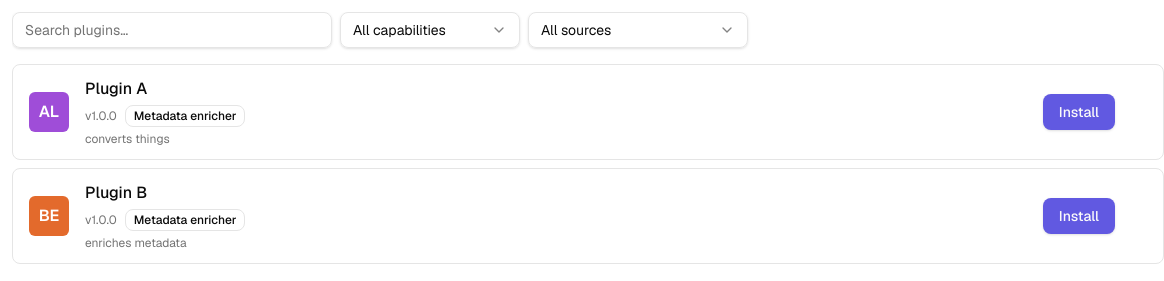
Scenario: DiscoverTab › filters plugins by search query (description match)
Type "converts" into the field with placeholder "Search plugins…".
click(172, 30); type("converts")  # box x1=12 y1=12 x2=332 y2=48
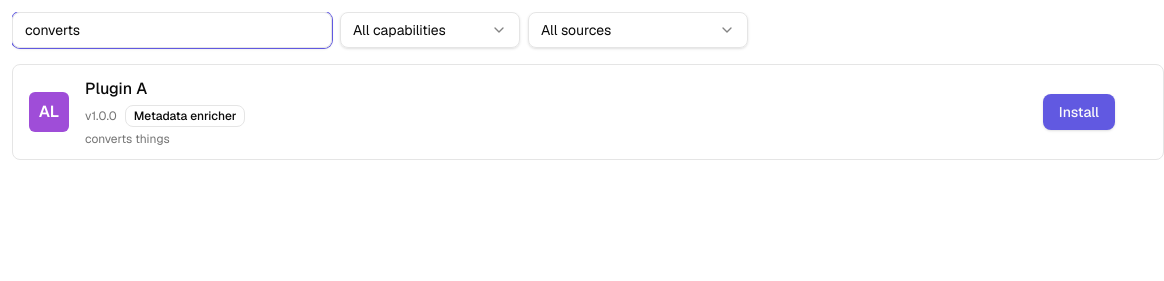
Expected: the text "Plugin A" is shown, x1=85 y1=77 x2=147 y2=101
Result: the link "Plugin B" is gone
